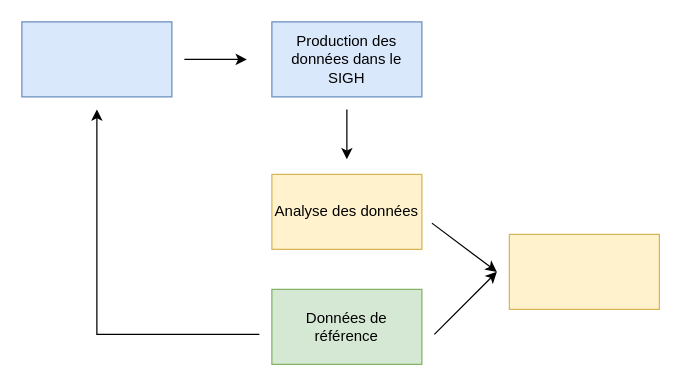
The diagram is 681 pixels wide and 386 high, and some of its shapes have lost their labels. The box of each missing label's shape, as (x1, y1, x2, y2) in pixels:
Applications opérationnelles: (21, 21, 172, 97)
Pilotage: (508, 233, 659, 309)
